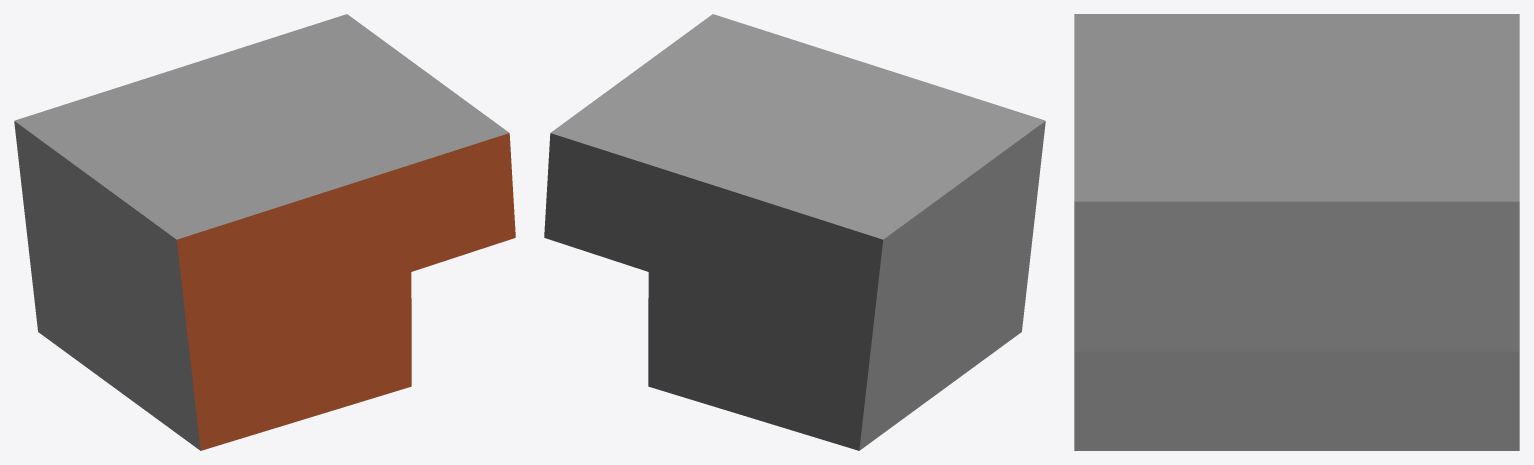
The model's file is construction_2977_assumed_A_Casa_h6m.obj.
The picture shows the model from 3 angles, left to right: view 1: azimuth 30°, elevation 25°; view 2: azimuth 150°, elevation 25°; view 3: azimuth 270°, elevation 25°; orthographic projection. The views are drawn at different scales.
Visible parts, largest first — view 1: construction_2977_assumed_A_Casa; view 2: construction_2977_assumed_A_Casa; view 3: construction_2977_assumed_A_Casa.
Boxes of the visible parts, x1,y1,x2,y2 form: construction_2977_assumed_A_Casa: [14, 14, 515, 450]; construction_2977_assumed_A_Casa: [544, 14, 1045, 450]; construction_2977_assumed_A_Casa: [1074, 14, 1519, 450].
Size of the model in its own units: 7.22 by 4.94 by 6.
